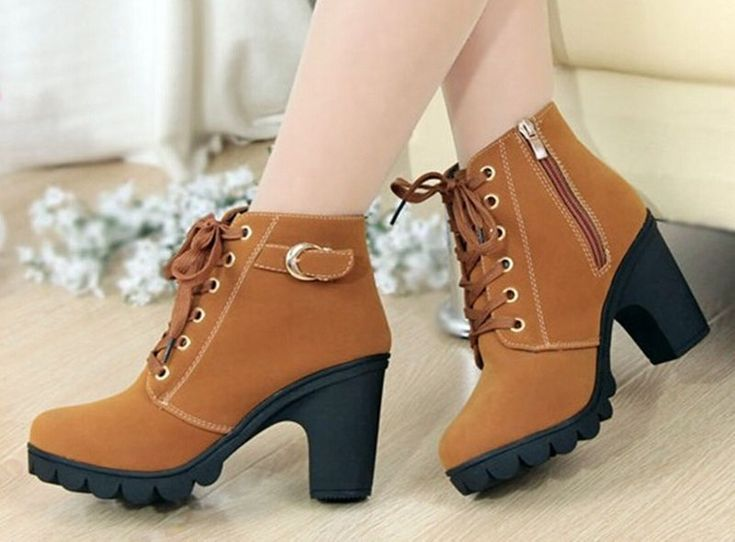gamuza: (28, 101, 651, 472)
